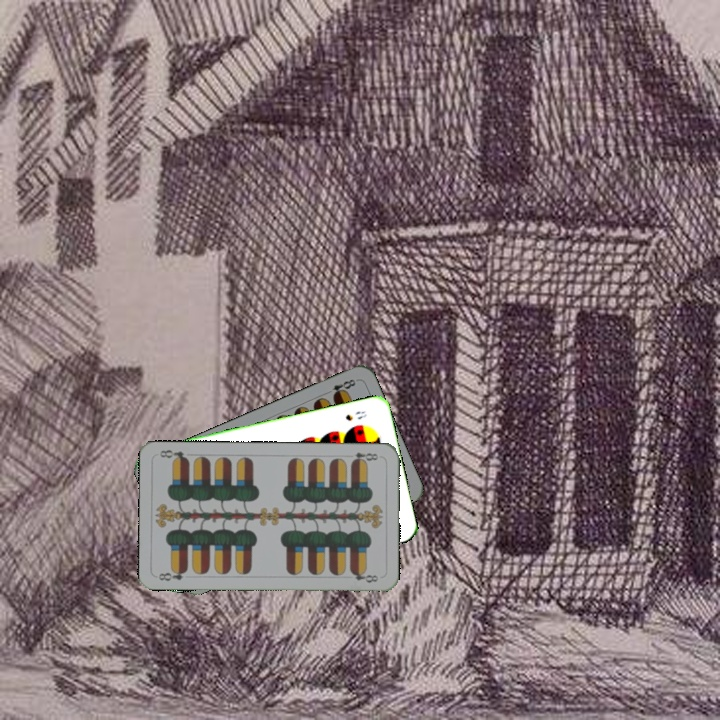E8: (328, 375, 360, 400), (155, 565, 190, 583), (347, 448, 381, 466)
S8: (341, 407, 369, 423)
